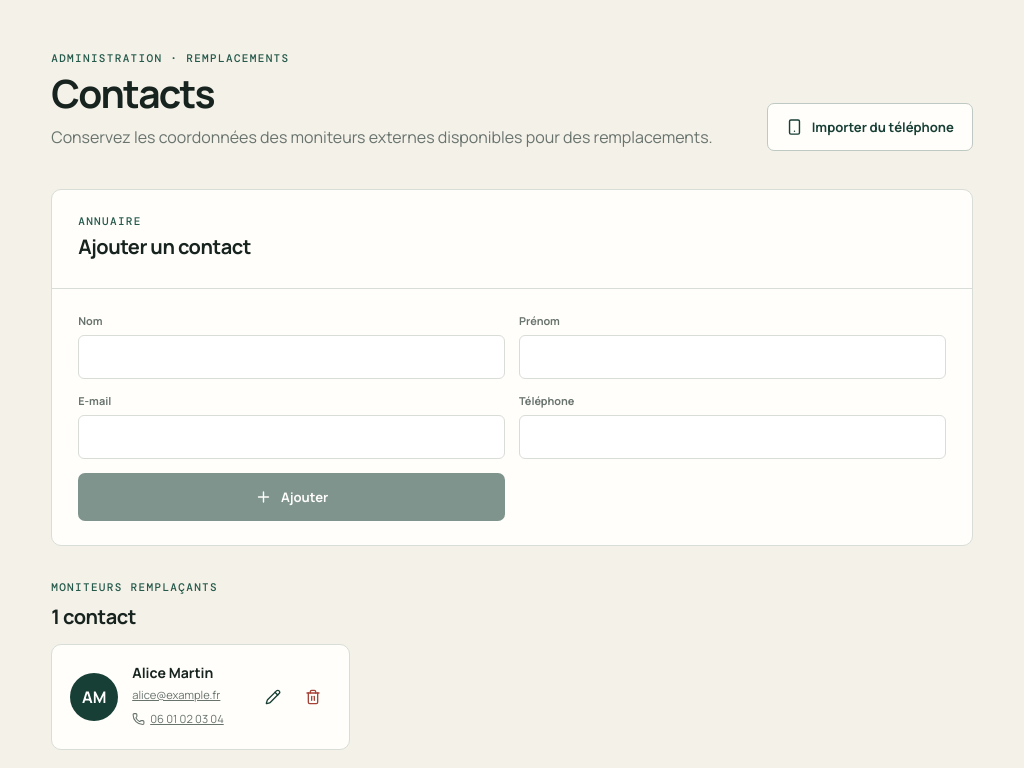
Scenario: ContactsPage › imports a selected phone contact into the editable form without saving it
expect the heading "Alice Martin" is shown: met, box [132, 663, 213, 682]
Click the button "Importer du téléphone" at (870, 127), box [767, 103, 973, 151]
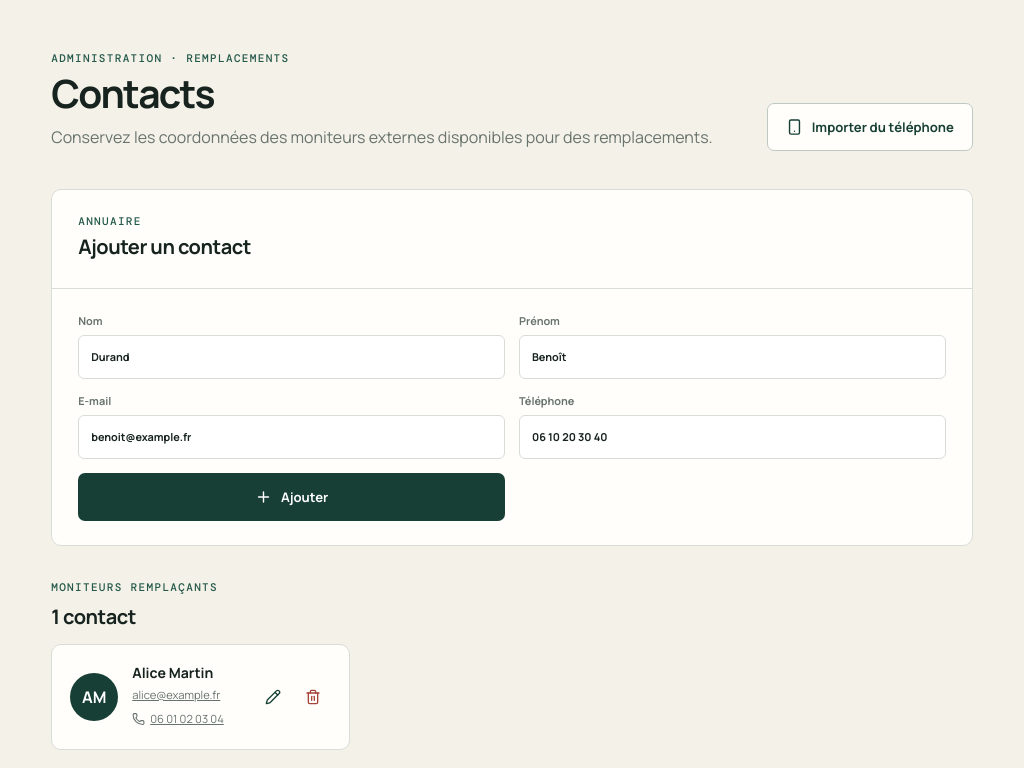
expect the field labelled "Prénom" holds "Benoît": met, box [519, 335, 946, 379]
expect the field labelled "Nom" holds "Durand": met, box [78, 335, 505, 379]
expect the field labelled "E-mail" holds "benoit@example.fr": met, box [78, 415, 505, 459]
